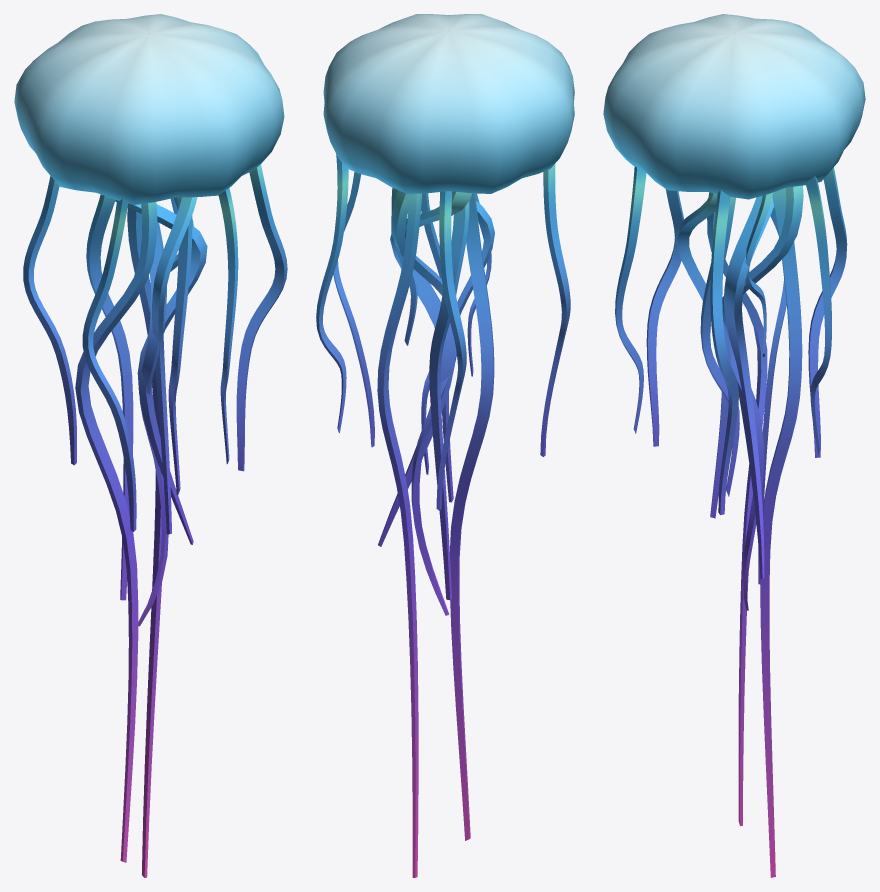
The model's file is JellyFish02.fbx.
3 views of the same model, side by side, from view 1: azimuth 30°, elevation 25°; view 2: azimuth 150°, elevation 25°; view 3: azimuth 270°, elevation 25° (orthographic). The views are drawn at different scales.
Visible parts, largest first — view 1: JellyFish02; view 2: JellyFish02; view 3: JellyFish02.
Part boxes in pixels (left/top/right/bottom): JellyFish02: left=14, top=14, right=287, bottom=877; JellyFish02: left=316, top=14, right=574, bottom=877; JellyFish02: left=603, top=14, right=865, bottom=877.
Bounding box in the file's own units: 0.364 × 1.22 × 0.3461.
1 material, 1 textured.
